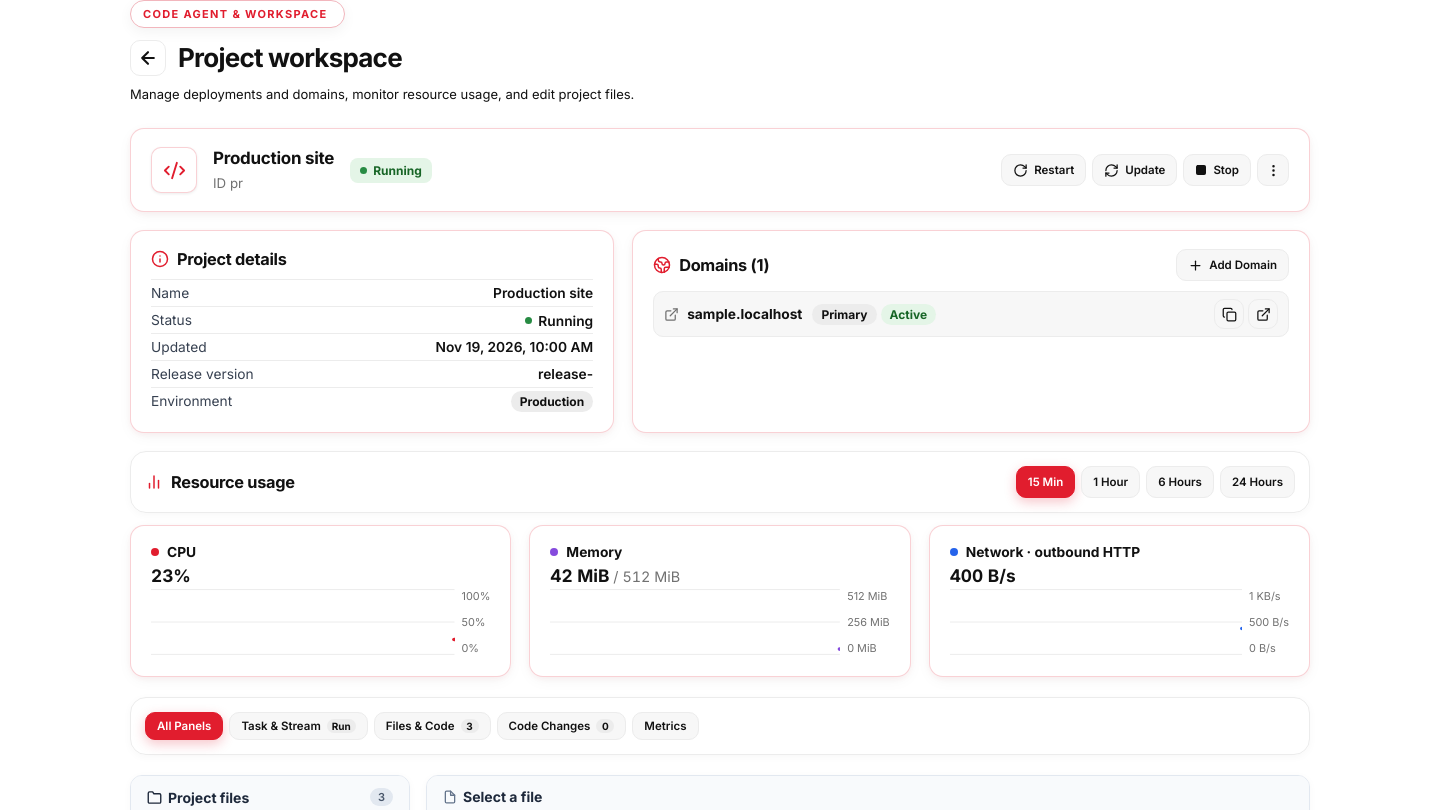
Scenario: starts with a blank domain, clears validation errors, and drops drafts on cancel
The width and height of the screenshot is (1440, 810).
Later steps or results of the test are not shown.
Click the button "Add domain". click: {"x": 1233, "y": 265}
box: left=1176, top=249, right=1289, bottom=281
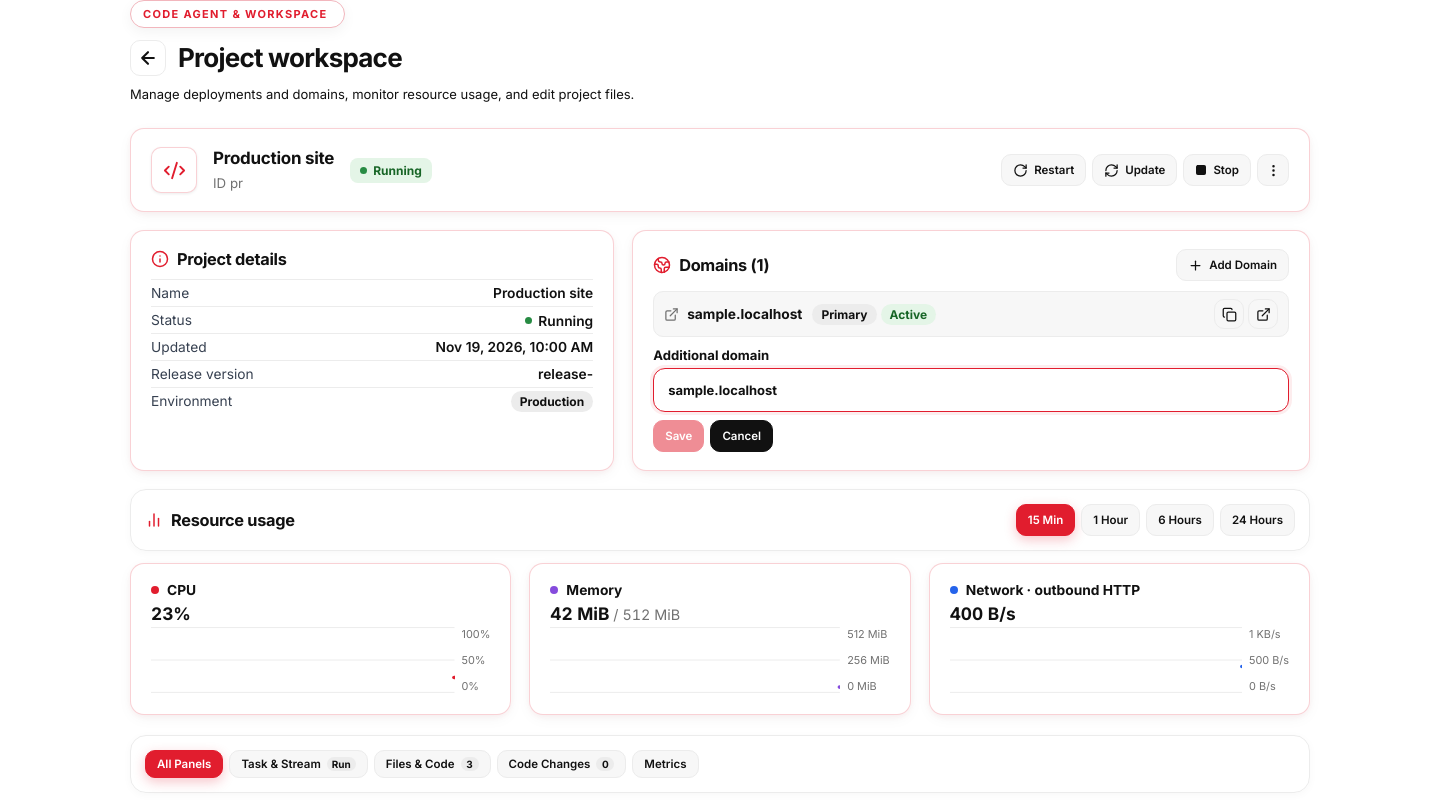
Expected: the button "Save" is disabled, left=653, top=420, right=704, bottom=452
